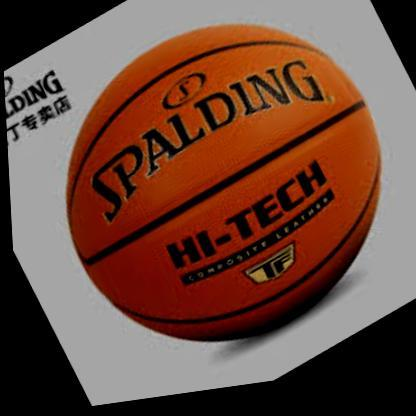basketball: (9, 0, 416, 413)
